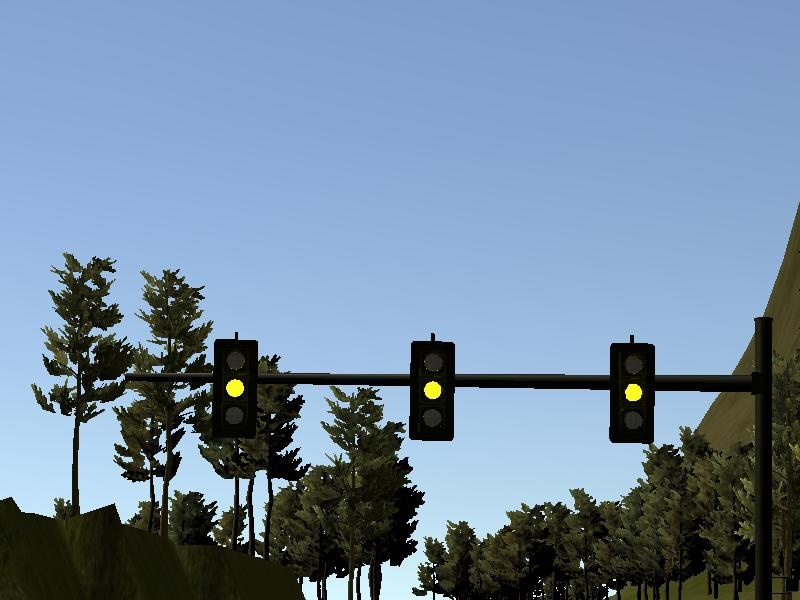YELLOW: (610, 342, 655, 442), (409, 341, 454, 441), (212, 338, 257, 438)
